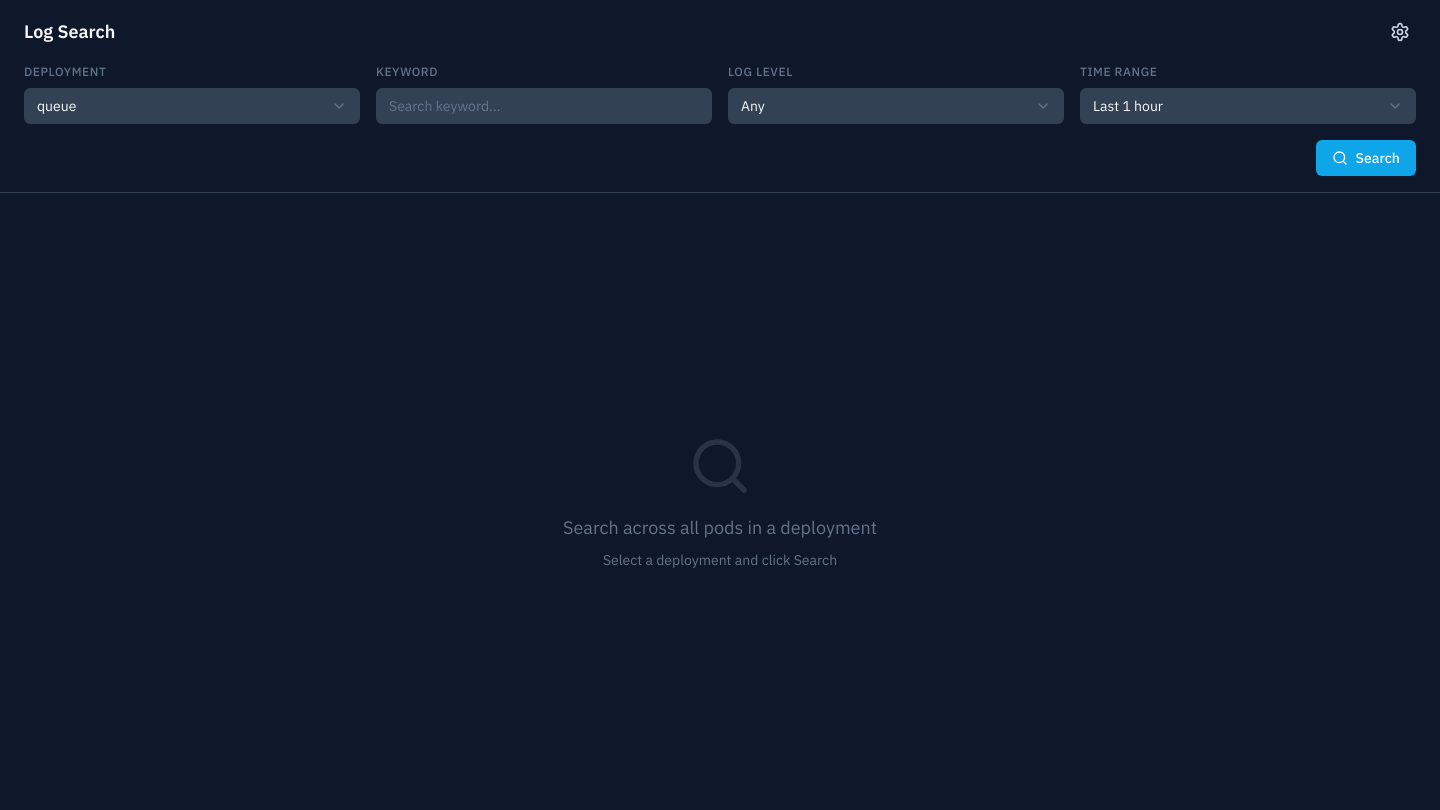
Scenario: manual log search › shows global error and retries the previous snapshot without automatic retries
Type "forecast sync" into the field labelled "keyword".
click(544, 106); type("forecast sync")  # box [376,88,712,124]
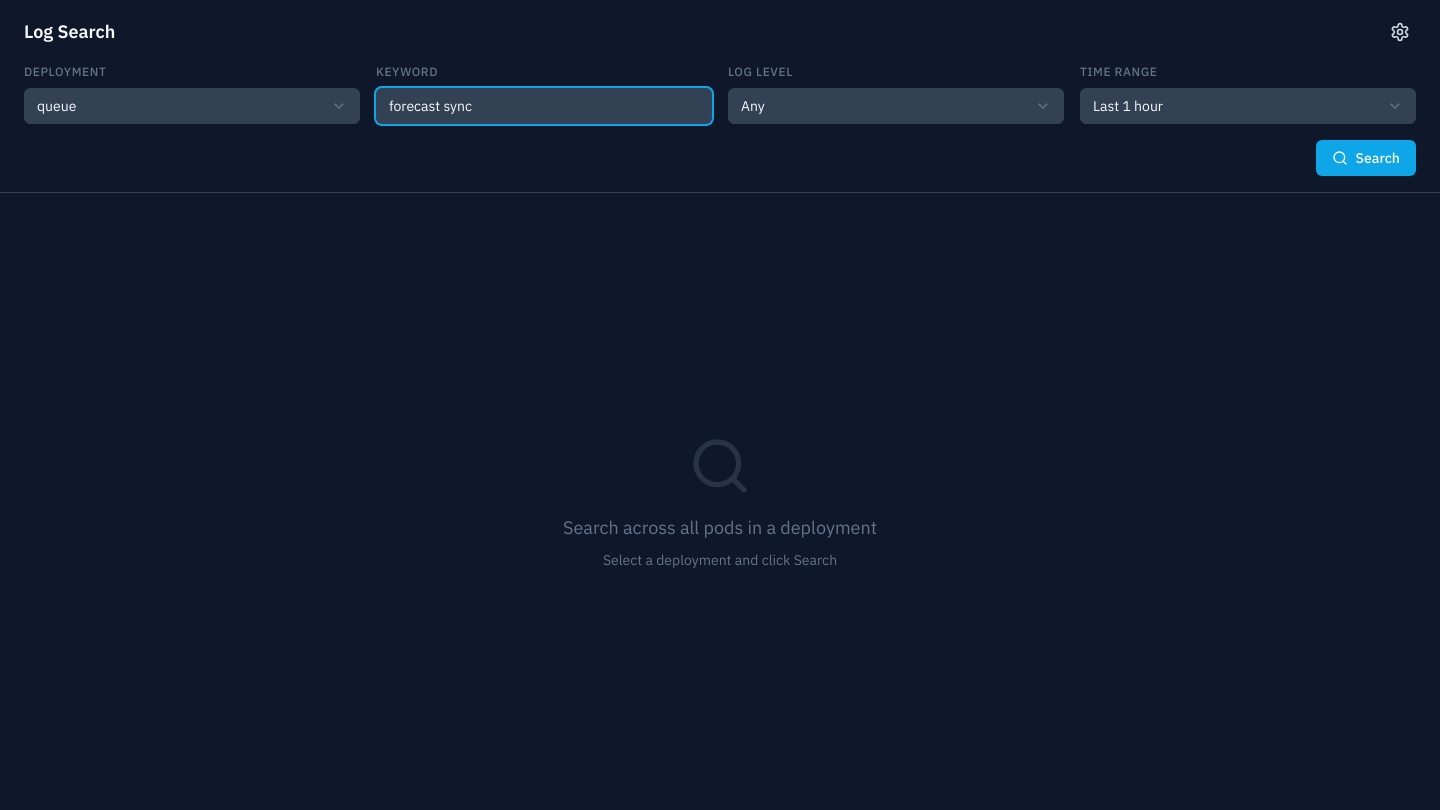
Click the button "Search".
click(1366, 158)  # box [1316,140,1416,176]
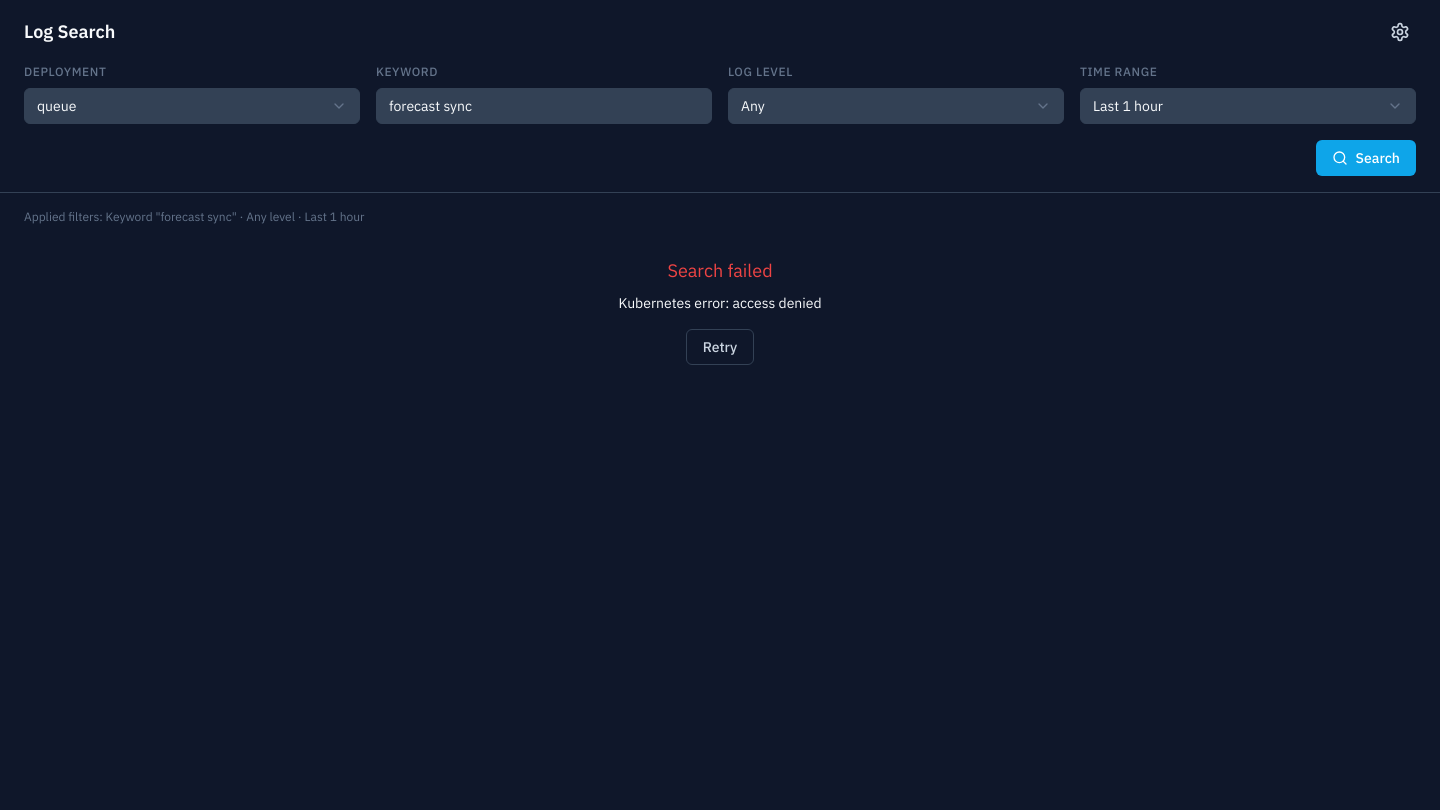
Check: the text "No results found" is not shown
Check: the text "Search failed" is shown, box [667,257,773,285]
Check: the message shows "Kubernetes error: access denied", box [618,294,822,312]
Replace the text in the field named "keyword" with "changed" at (544, 106), box [376,88,712,124]
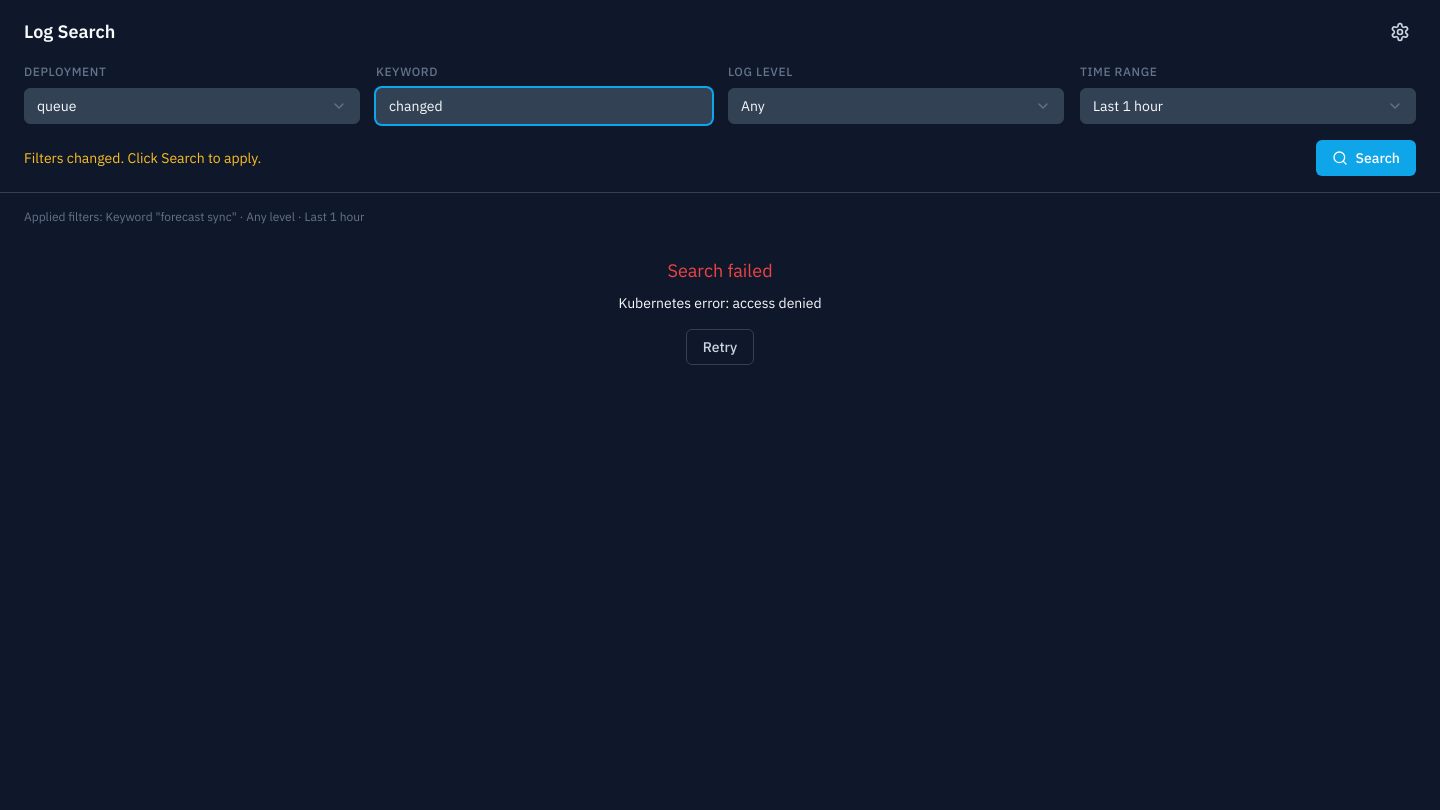
Click the button "Retry".
click(720, 347)  # box [686,329,754,365]
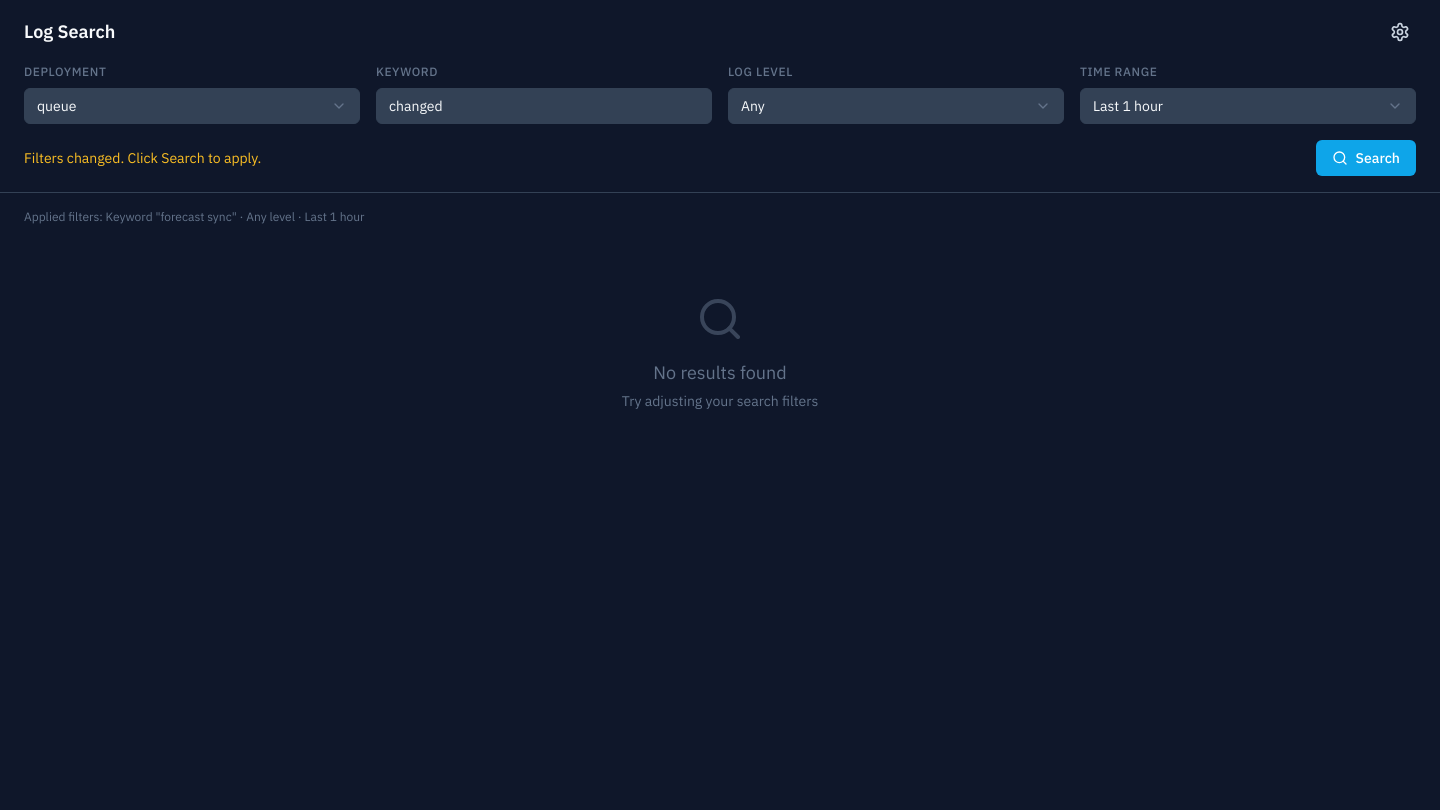
Check: the text "Filters changed. Click Search to apply." is shown, box [24,148,261,168]
Check: the text "No results found" is shown, box [653,359,787,387]
